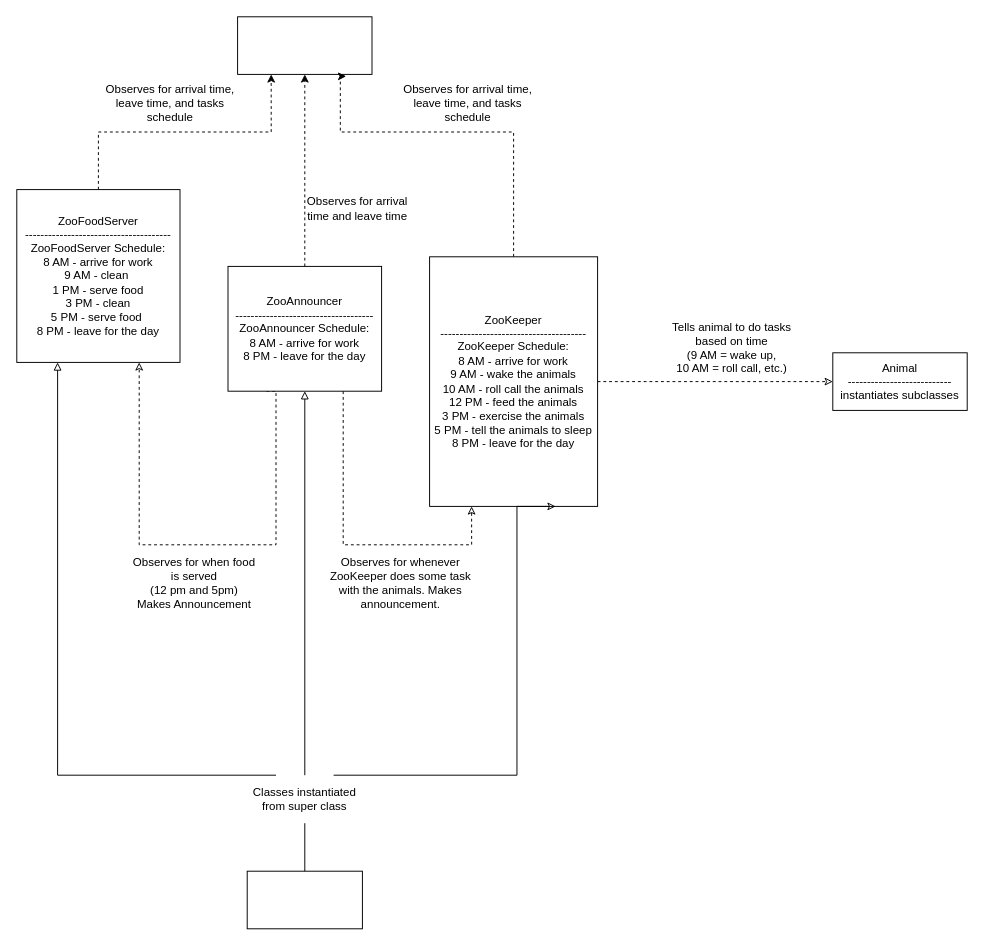
The diagram is 984 pixels wide and 946 high, and some of its shapes have lost their labels. Here are the shapes that lost their labels. From the top down, the centre of each, then its label:
At (304,45): "ZooClock ------------------------ instantiated from itself".
At (304,899): "<<SuperClass>> ZooEmployee".
